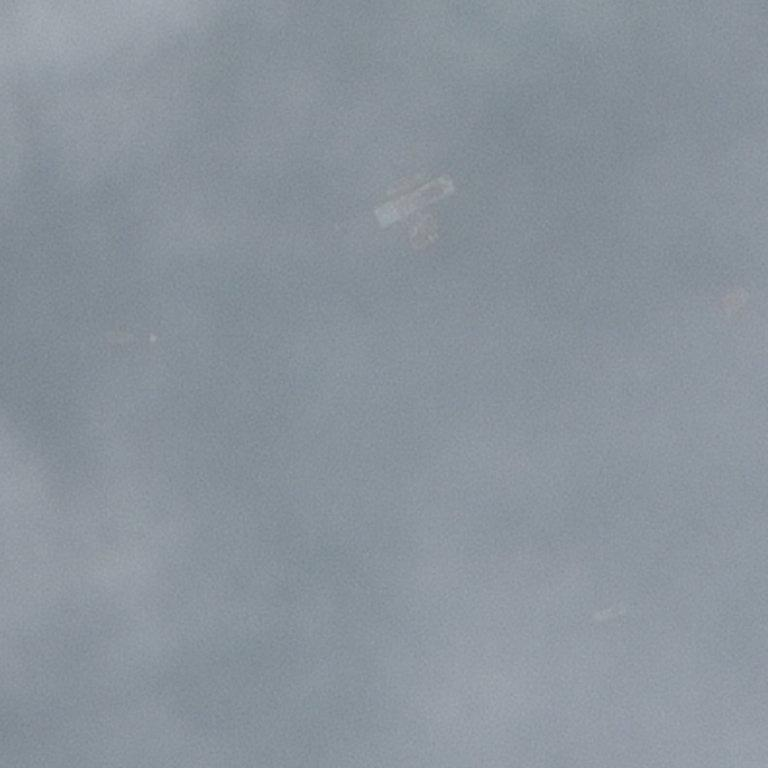ship: (69, 329, 84, 346), (448, 178, 454, 184), (382, 224, 386, 229), (148, 333, 151, 336), (374, 58, 377, 61), (157, 337, 159, 339), (415, 175, 415, 233), (148, 342, 150, 342)
